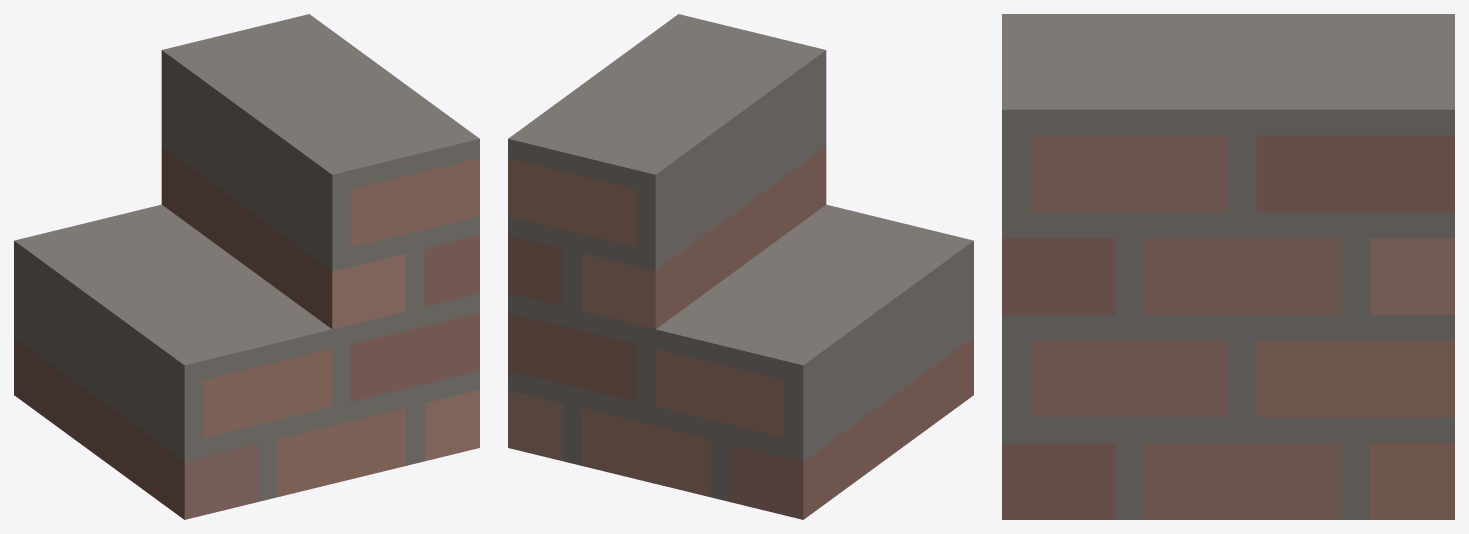
File: brick.stairs-2.glb
The picture shows the model from 3 angles, left to right: view 1: azimuth 30°, elevation 25°; view 2: azimuth 150°, elevation 25°; view 3: azimuth 270°, elevation 25°; orthographic projection. The views are drawn at different scales.
Size of the model in its own units: 1 by 1 by 1.
